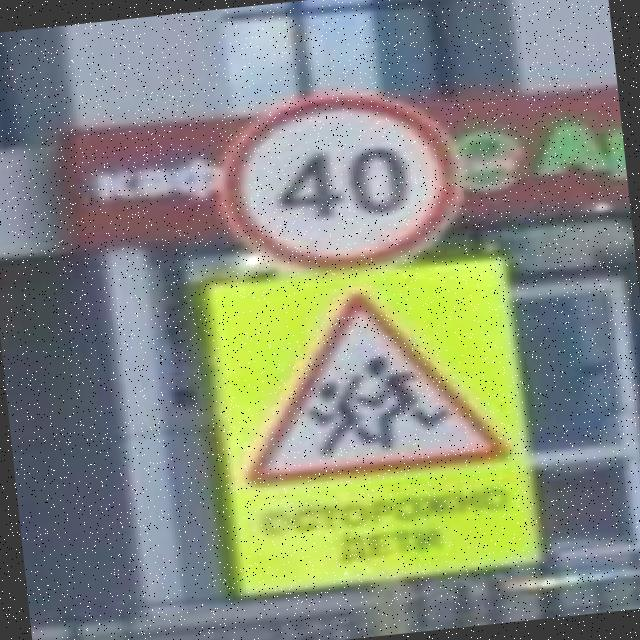Dzieci: (230, 278, 512, 490)
Ograniczenie predkosci do 40: (212, 82, 464, 281)
